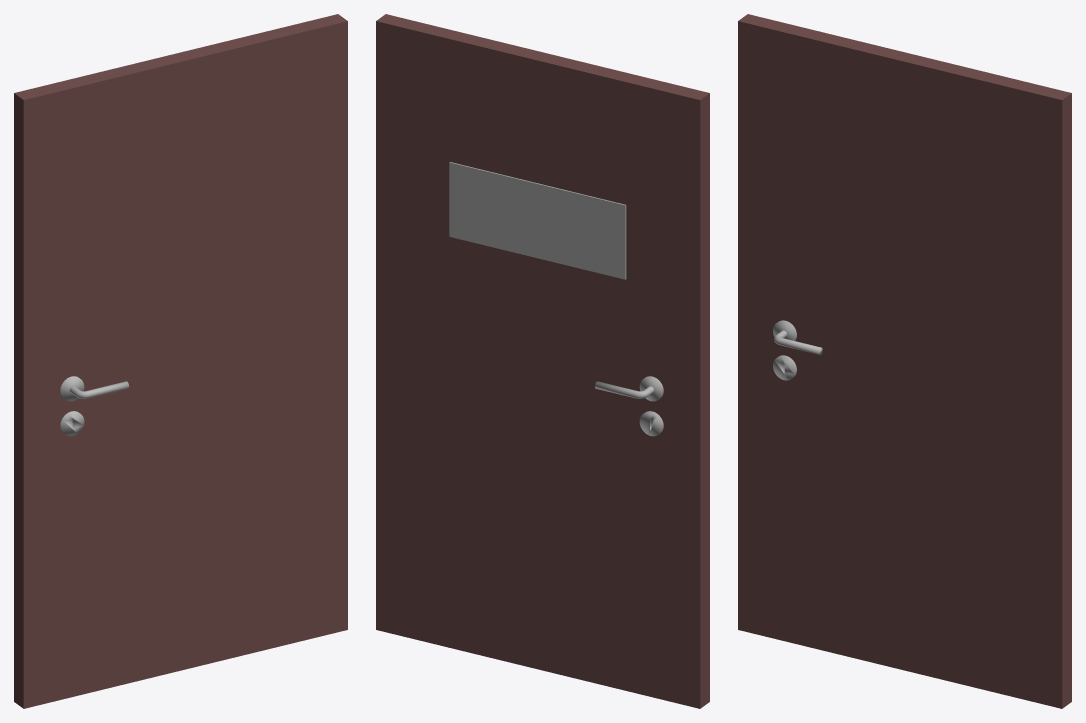
File: Staff_Door.fbx
3 renders of one model, left to right at view 1: azimuth 30°, elevation 25°; view 2: azimuth 150°, elevation 25°; view 3: azimuth 330°, elevation 25°, orthographic.
Visible parts, largest first — view 1: Door.003; view 2: Door.003; view 3: Door.003.
Part boxes in pixels (x1,y1,x2,y2): Door.003: (14, 14, 347, 708); Door.003: (376, 14, 709, 708); Door.003: (738, 14, 1071, 708).
Bounding box in the file's own units: 148 × 267 × 27.09.
